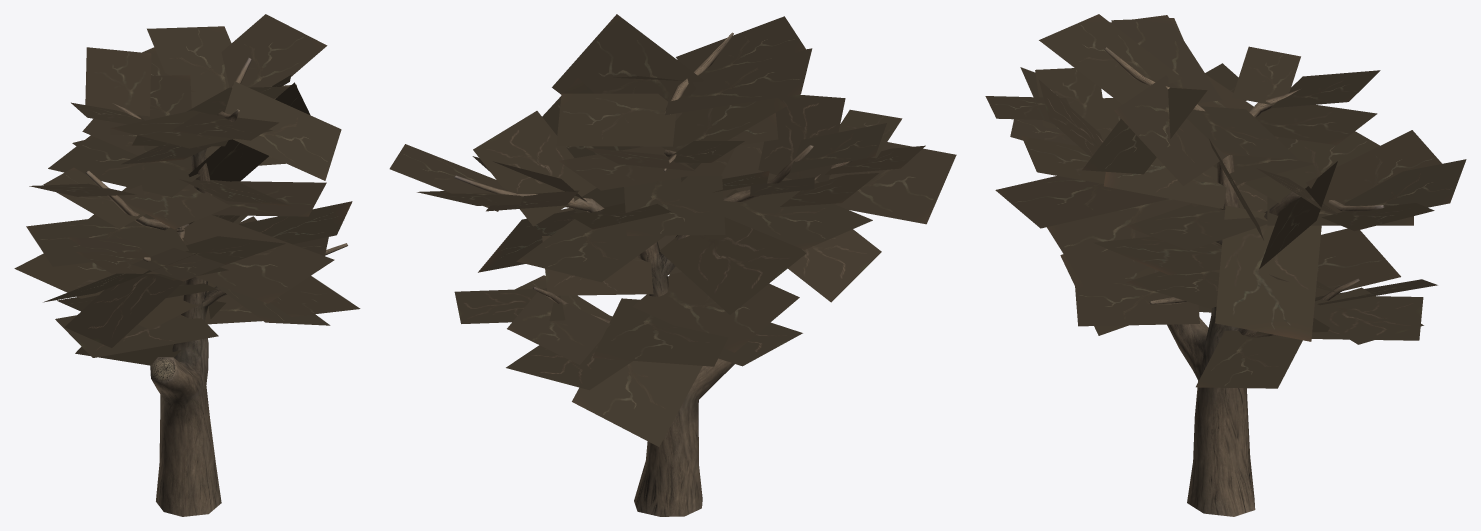
Rendered from tree_01.FBX.
3 views of the same model, side by side, from view 1: azimuth 30°, elevation 25°; view 2: azimuth 150°, elevation 25°; view 3: azimuth 270°, elevation 25° (orthographic). The views are drawn at different scales.
Parts seen in each view (by area): view 1: tree_01; view 2: tree_01; view 3: tree_01.
Boxes of the visible parts, x1=… form: tree_01: x1=14, y1=14, x2=360, y2=516; tree_01: x1=389, y1=14, x2=956, y2=516; tree_01: x1=985, y1=14, x2=1466, y2=516.
Bounding box in the file's own units: 155 × 159 × 154.
